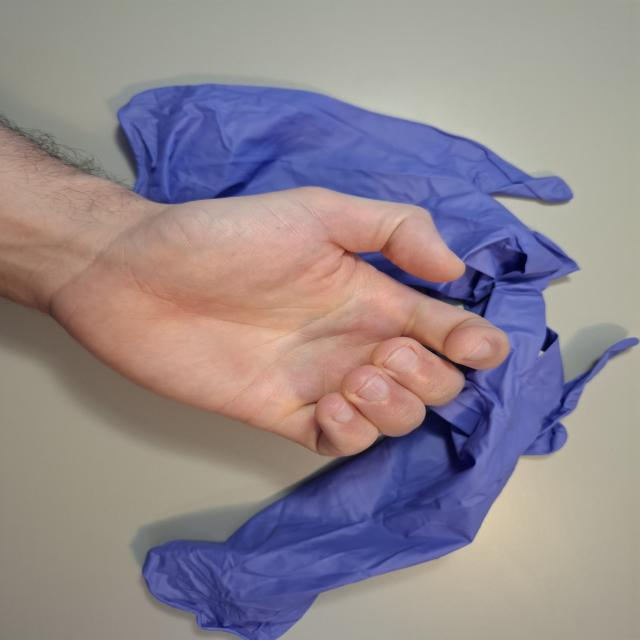glove_off: (40, 184, 514, 460)
